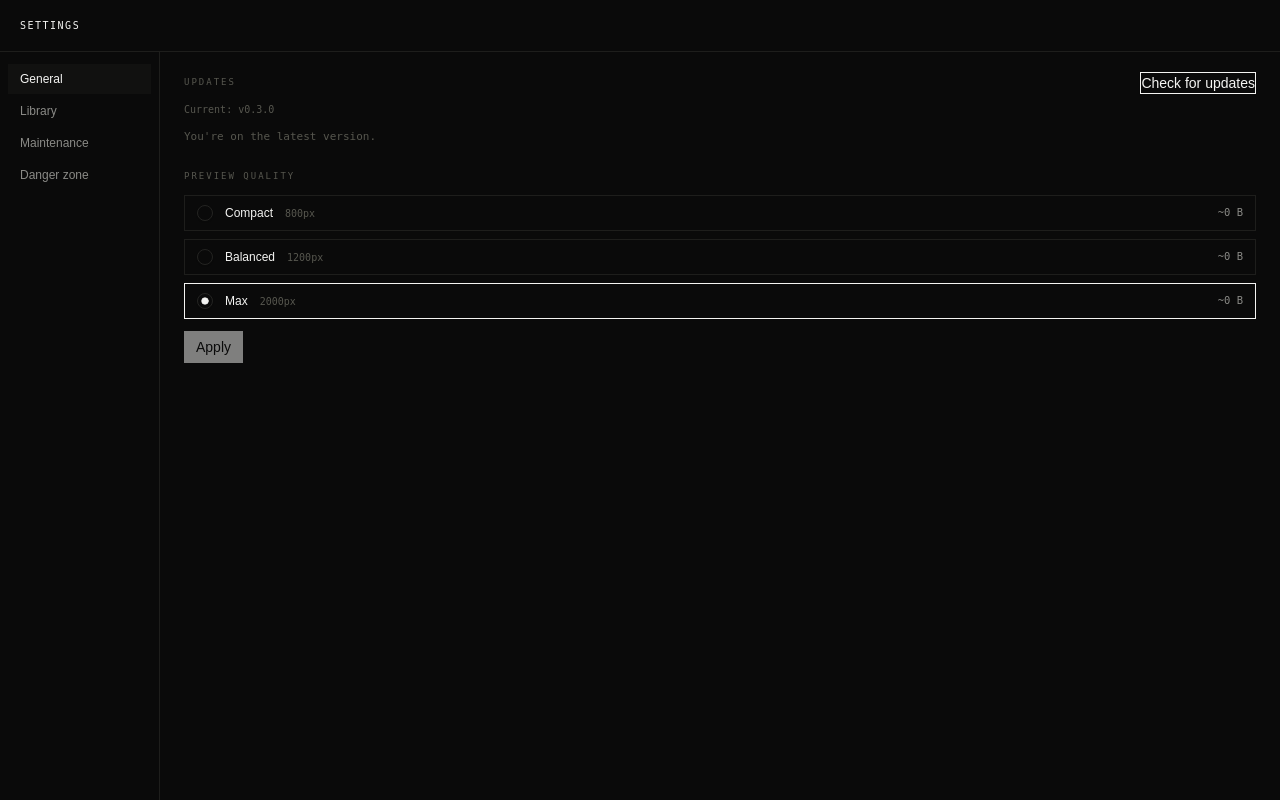
Test: navigates to the Danger zone group and renders its reset button
This screenshot has width=1280, height=800.
Expected: the text "Current: v0.3.0" is shown, [184,104,274,115]
Click the link "Danger zone" at (54, 175), box [20,168,89,182]
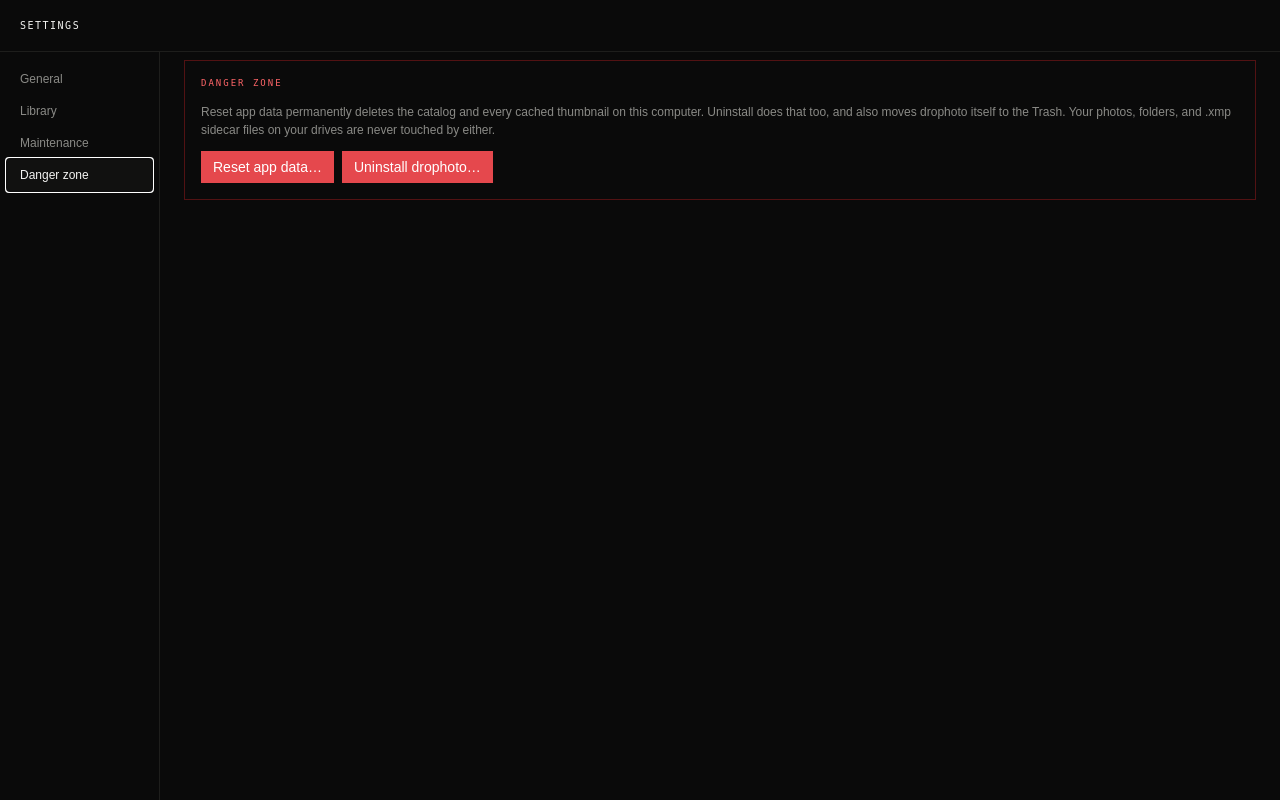
Expected: the button "Reset app data…" is shown, [201,150,334,182]
